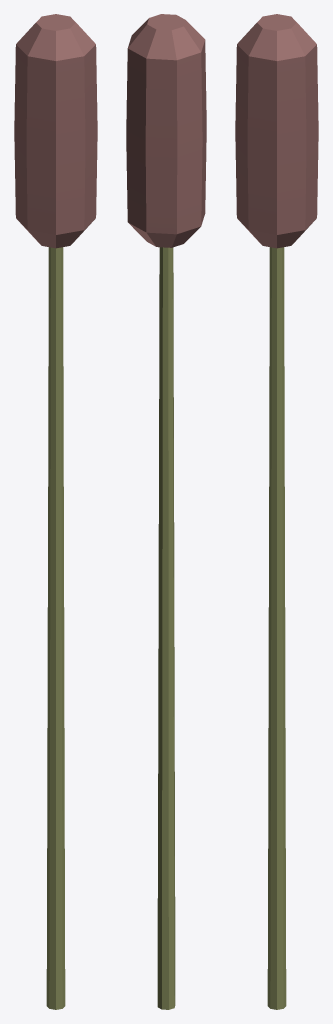
Rendered from SM_Swamp_Tall_Plant.fbx.
3 renders of one model, left to right at view 1: azimuth 90°, elevation 25°; view 2: azimuth 150°, elevation 25°; view 3: azimuth 270°, elevation 25°, orthographic.
Visible parts, largest first — view 1: Swamp_Tall_Plant; view 2: Swamp_Tall_Plant; view 3: Swamp_Tall_Plant.
Part boxes in pixels (x1,y1,x2,y2): Swamp_Tall_Plant: [14, 14, 97, 1009]; Swamp_Tall_Plant: [126, 14, 206, 1009]; Swamp_Tall_Plant: [235, 14, 318, 1009].
Bounding box in the file's own units: 4.85 × 63.18 × 4.85.
